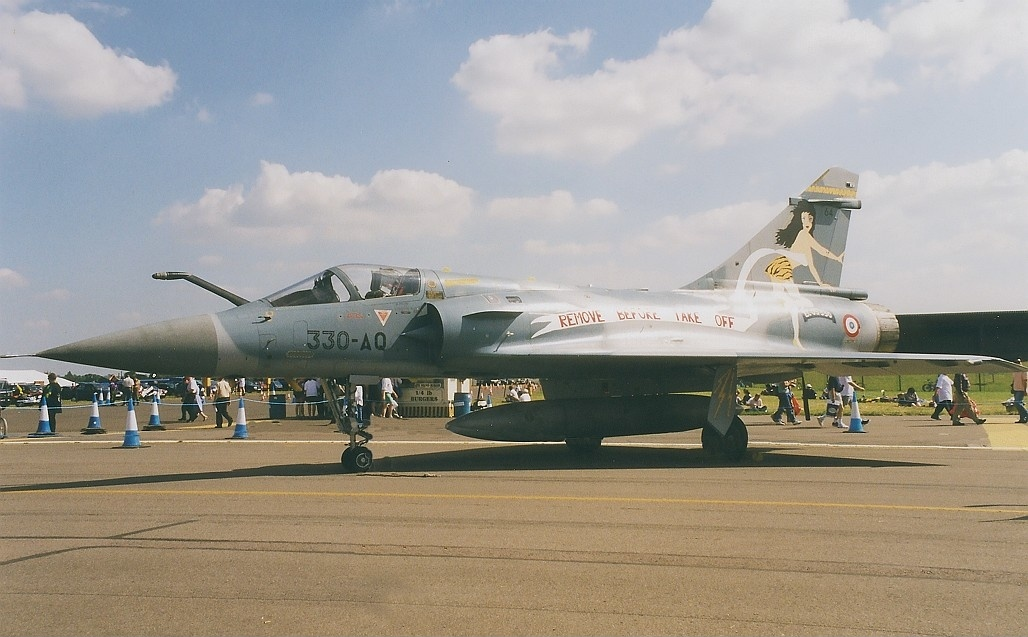Mirage2000: (1, 166, 1028, 472)
